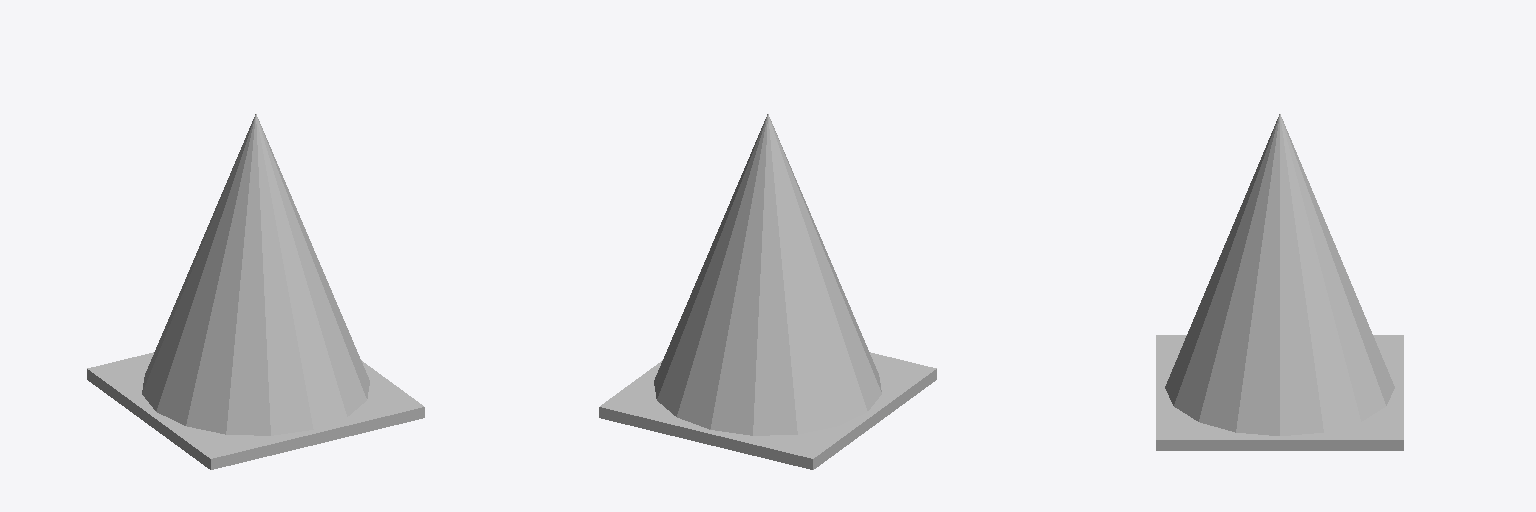
Rendered from pylon.obj.
3 renders of one model, left to right at view 1: azimuth 30°, elevation 25°; view 2: azimuth 150°, elevation 25°; view 3: azimuth 270°, elevation 25°, orthographic.
Parts seen in each view (by area): view 1: Cone; view 2: Cone; view 3: Cone.
Part boxes in pixels (x1,y1,x2,y2): Cone: (87,114,424,469); Cone: (599,114,936,469); Cone: (1156,114,1403,450).
Bounding box in the file's own units: 2 × 2.55 × 2.